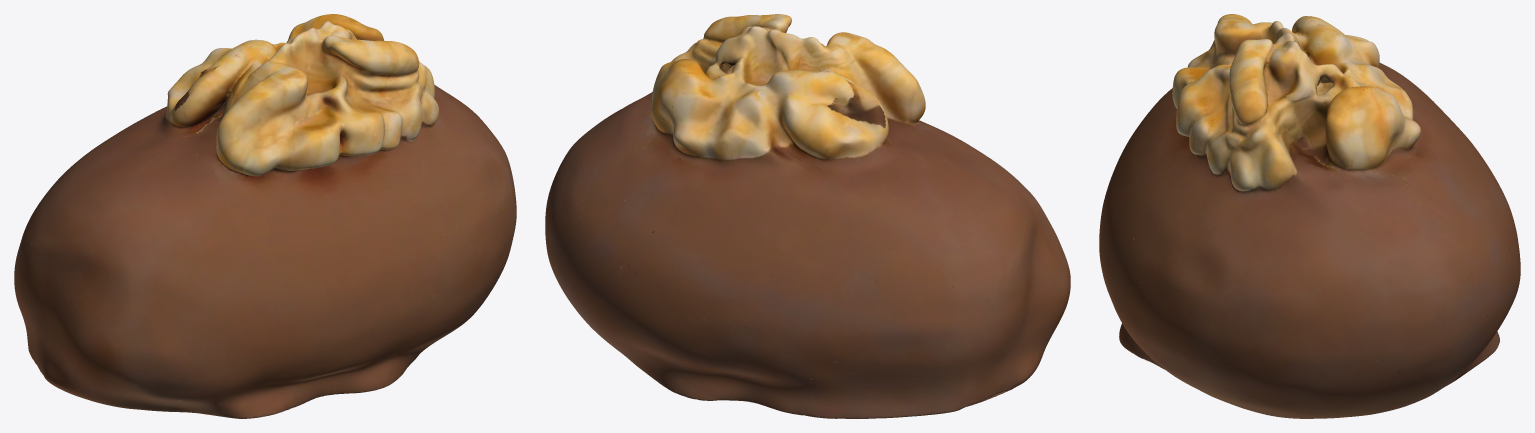
The model's file is selou-caramel.glb.
3 renders of one model, left to right at view 1: azimuth 30°, elevation 25°; view 2: azimuth 150°, elevation 25°; view 3: azimuth 270°, elevation 25°, orthographic. The views are drawn at different scales.
Size of the model in its own units: 2 by 1.24 by 1.5.
1 material, 1 textured.
